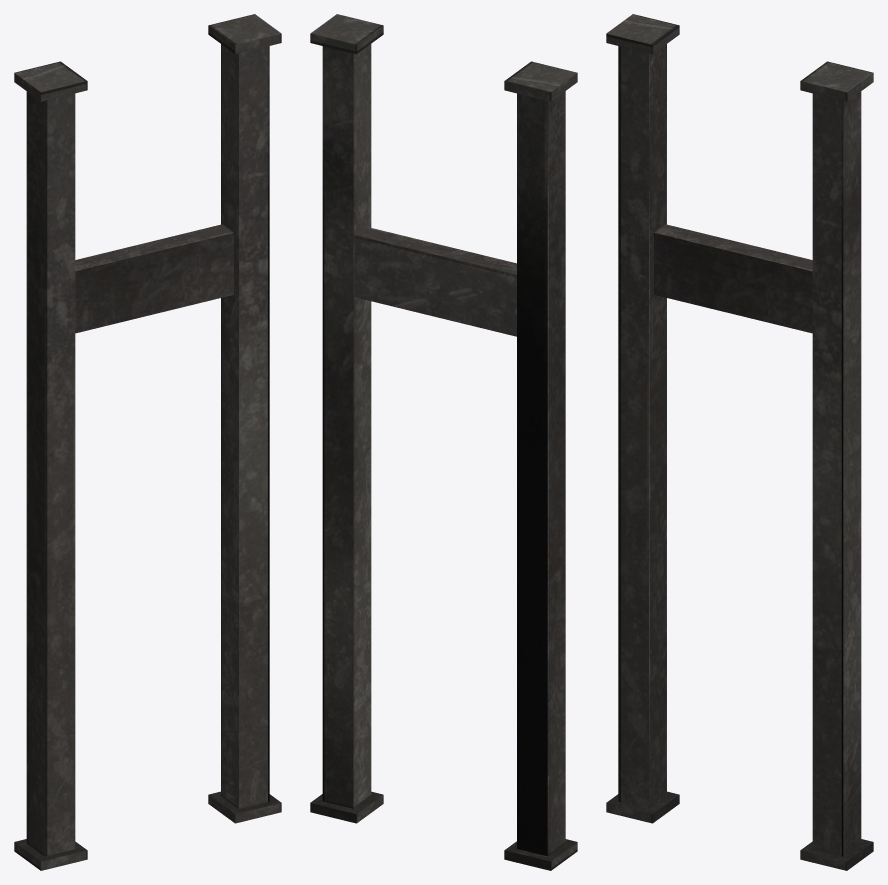
Rendered from Tolpat.fbx.
3 views of the same model, side by side, from view 1: azimuth 30°, elevation 25°; view 2: azimuth 150°, elevation 25°; view 3: azimuth 330°, elevation 25° (orthographic).
Parts seen in each view (by area): view 1: Pillars; view 2: Pillars; view 3: Pillars.
Boxes of the visible parts, left/top/right/bottom form: Pillars: left=14, top=14, right=281, bottom=870; Pillars: left=310, top=14, right=577, bottom=870; Pillars: left=606, top=14, right=873, bottom=870.
Size of the model in its own units: 129 by 400 by 25.
